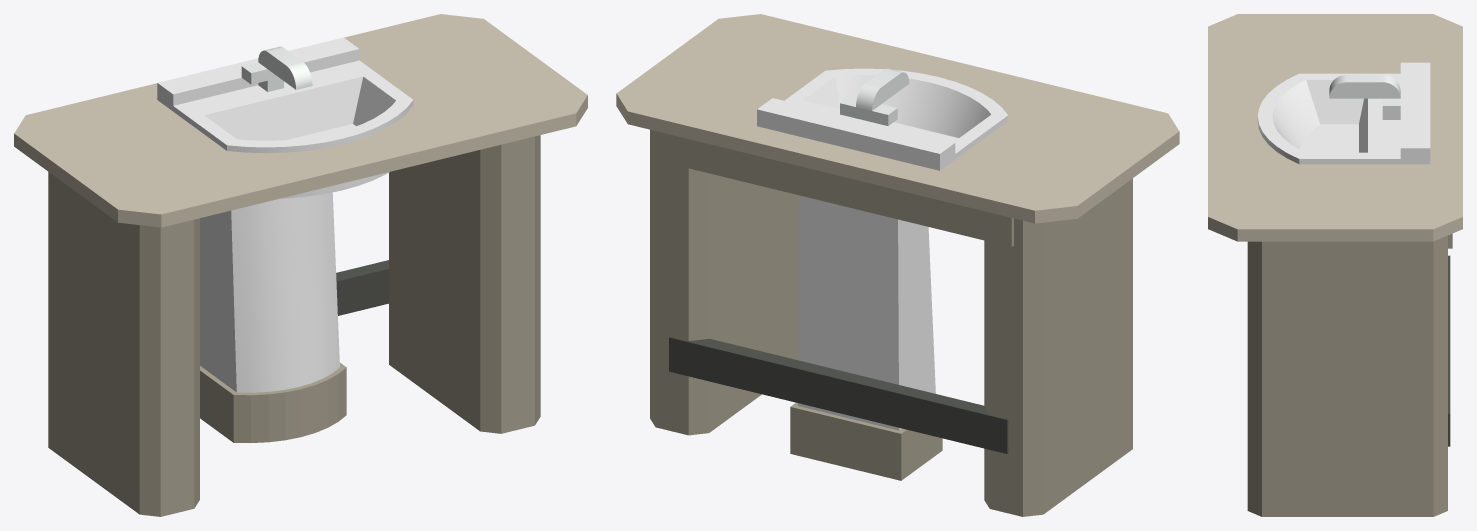
3 views of the same model, side by side, from view 1: azimuth 30°, elevation 25°; view 2: azimuth 150°, elevation 25°; view 3: azimuth 270°, elevation 25° (orthographic). The views are drawn at different scales.
Visible parts, largest first — view 1: wash-countertop, left-stone-pier, basin-bowl, right-stone-pier, pedestal-foot, low-stone-stretcher, basin-faucet; view 2: wash-countertop, left-stone-pier, basin-bowl, right-stone-pier, low-stone-stretcher, rear-stone-apron, pedestal-foot, basin-faucet; view 3: right-stone-pier, wash-countertop, basin-bowl, basin-faucet, low-stone-stretcher.
Boxes of the visible parts, x1,y1,x2,y2 form: wash-countertop: (14,14,587,227); left-stone-pier: (48,172,199,516); basin-bowl: (157,37,413,392); right-stone-pier: (389,135,540,433); pedestal-foot: (200,363,346,442); low-stone-stretcher: (336,260,388,315); basin-faucet: (241,46,312,91); wash-countertop: (616,14,1179,223); left-stone-pier: (984,178,1132,516); basin-bowl: (757,68,1008,430); right-stone-pier: (650,129,798,435); low-stone-stretcher: (669,336,1008,453); rear-stone-apron: (662,132,1013,246); pedestal-foot: (790,402,942,480); basin-faucet: (840,68,909,125); right-stone-pier: (1247,235,1447,516); wash-countertop: (1208,14,1462,241); basin-bowl: (1257,62,1430,164); basin-faucet: (1329,74,1400,119); low-stone-stretcher: (1448,255,1450,446).
Size of the model in its own units: 1.2 by 0.9 by 0.6.
